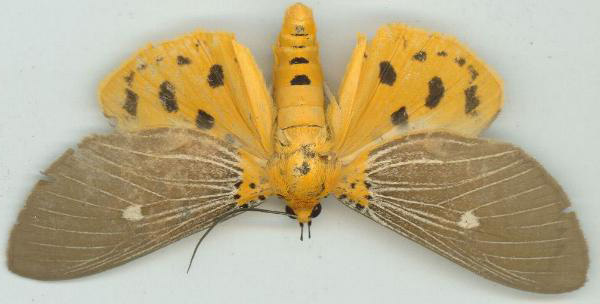Agape chloropyga: (3, 2, 598, 299)
moth: (1, 1, 596, 297)
